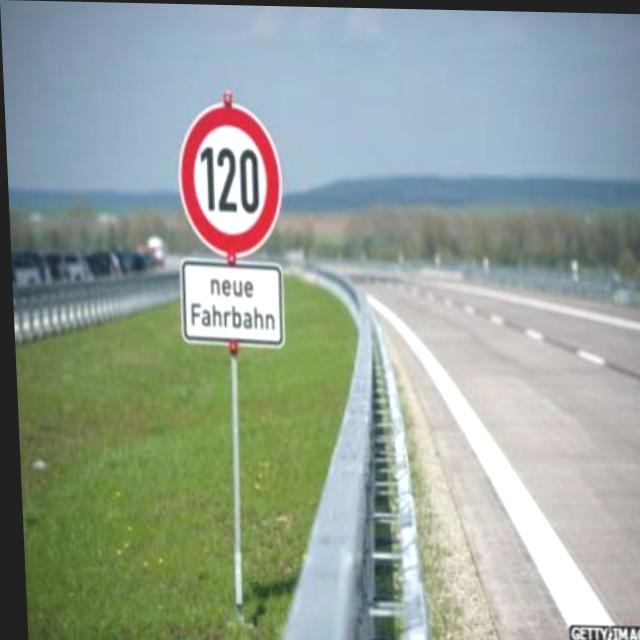limit120: (169, 90, 289, 268)
